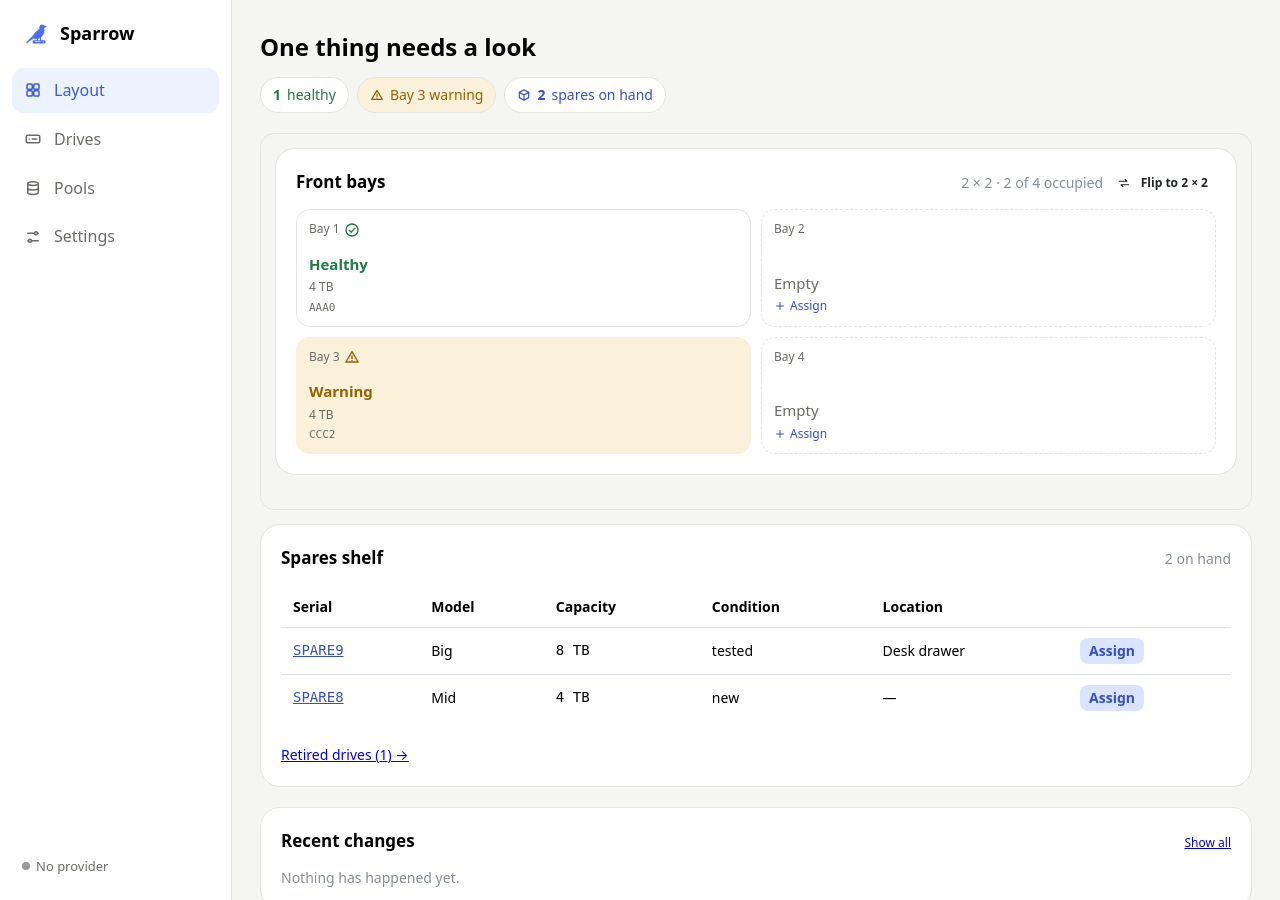
it: Slot history (R74) › R74: an empty bay shows only the slot history, no toggle
Click the button with aria-label "Bay 2, Empty": (789, 229) [761, 209, 1216, 327]
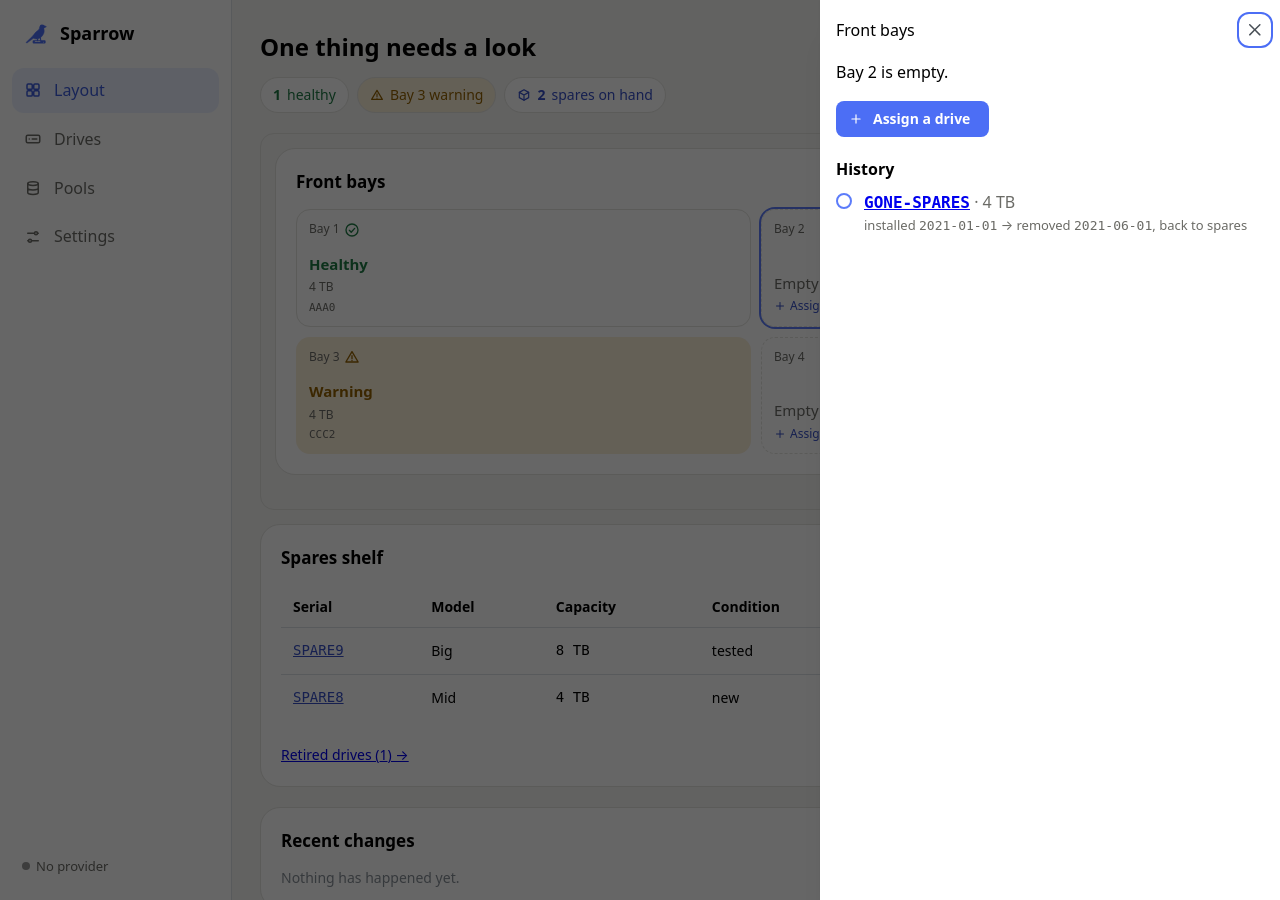
Check: the heading "History" is shown, box [836, 157, 894, 182]
Check: the link "GONE-SPARES" is shown, box [864, 193, 970, 212]
Check: the button "Assign a drive" is shown, box [836, 101, 989, 137]
